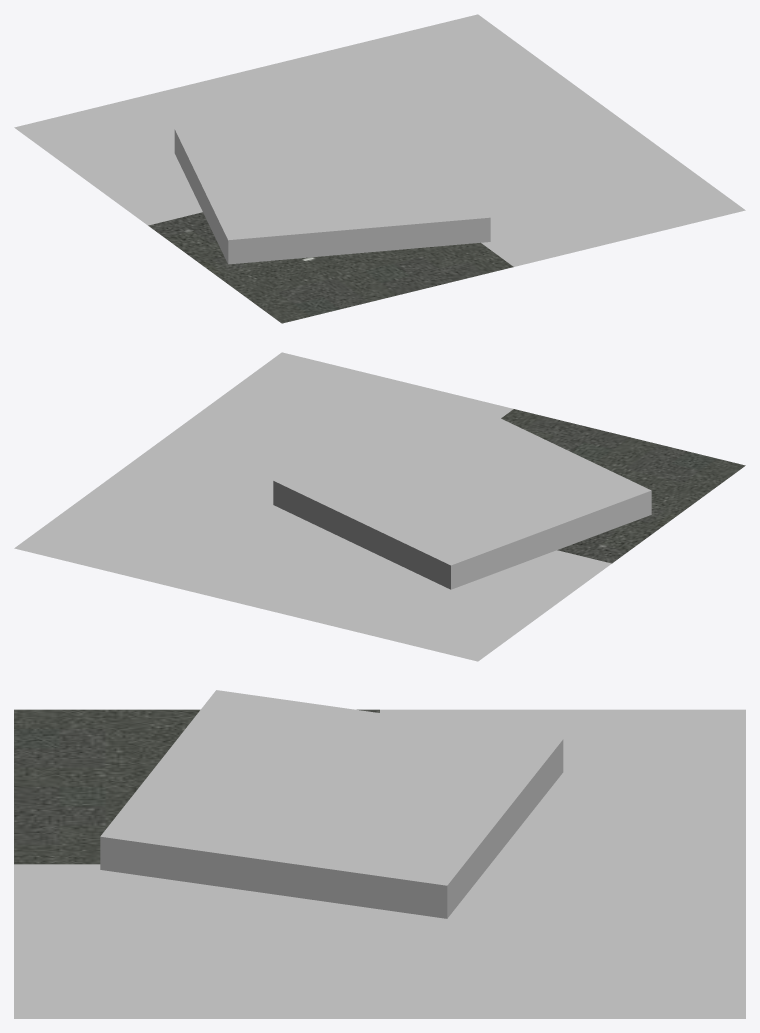
The model's file is roadAsphalt_damaged.dae.
3 views of the same model, one above another, from view 1: azimuth 30°, elevation 25°; view 2: azimuth 150°, elevation 25°; view 3: azimuth 270°, elevation 25° (orthographic). The views are drawn at different scales.
Visible parts, largest first — view 1: roadAsphalt_damaged; view 2: roadAsphalt_damaged; view 3: roadAsphalt_damaged.
Boxes of the visible parts, x1,y1,x2,y2 form: roadAsphalt_damaged: (14, 14, 745, 323); roadAsphalt_damaged: (14, 352, 745, 661); roadAsphalt_damaged: (14, 690, 745, 1018).
Size of the model in its own units: 1 by 0.05 by 1.
